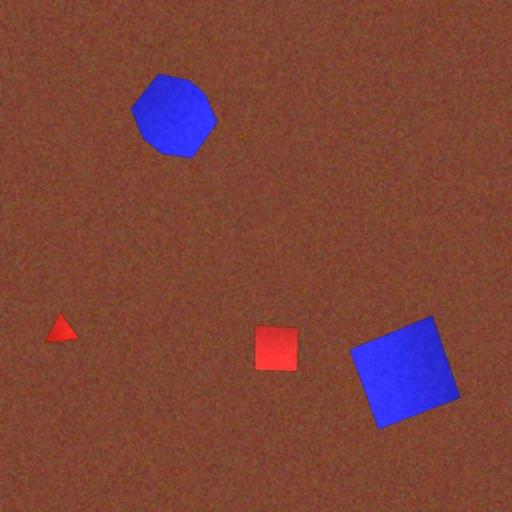BLUE_SQUARE: (348, 314, 462, 430)
RED_SQUARE: (254, 324, 299, 372)
